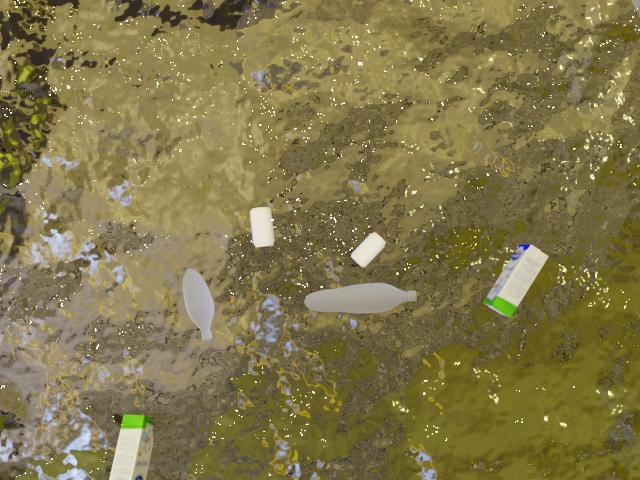Metal: (230, 199, 288, 259), (342, 225, 390, 274)
Plastic: (299, 274, 423, 334), (175, 262, 226, 347)
Trash: (480, 240, 548, 329), (94, 406, 166, 480)
